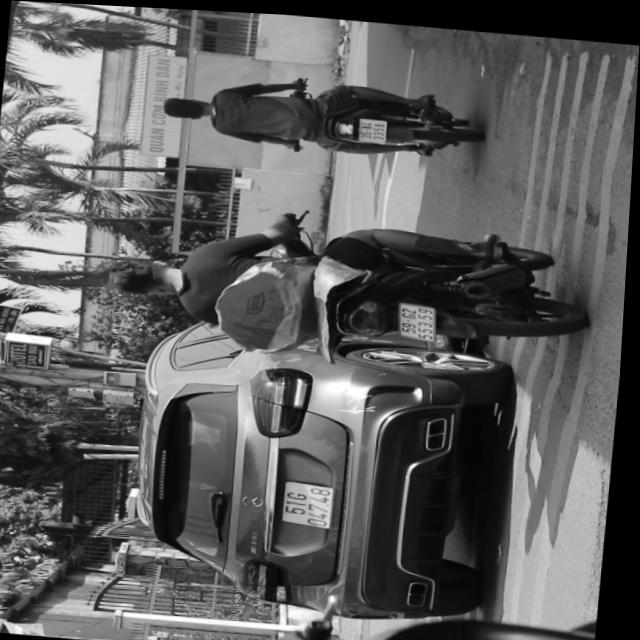licenseplate: (100, 194, 593, 369), (154, 63, 481, 165)
motorcyclist: (110, 254, 185, 297), (159, 93, 209, 121)
nohelmet: (401, 298, 440, 335), (359, 114, 388, 139)
